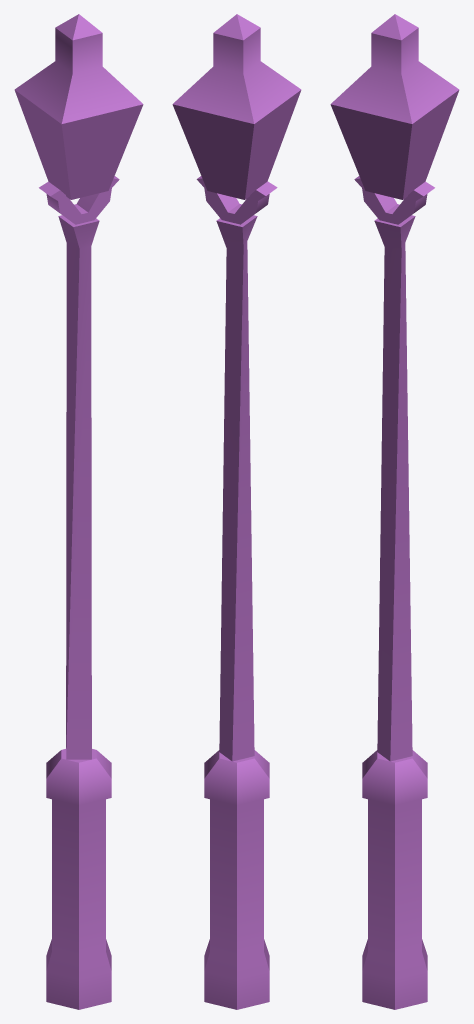
The model's file is LampPost.fbx.
The picture shows the model from 3 angles, left to right: view 1: azimuth 30°, elevation 25°; view 2: azimuth 150°, elevation 25°; view 3: azimuth 330°, elevation 25°; orthographic projection.
Visible parts, largest first — view 1: LampPost; view 2: LampPost; view 3: LampPost.
Part boxes in pixels (x1,y1,x2,y2): LampPost: [14, 14, 143, 1009]; LampPost: [172, 14, 301, 1009]; LampPost: [330, 14, 459, 1009].
Bounding box in the file's own units: 36.68 × 420 × 36.68.
